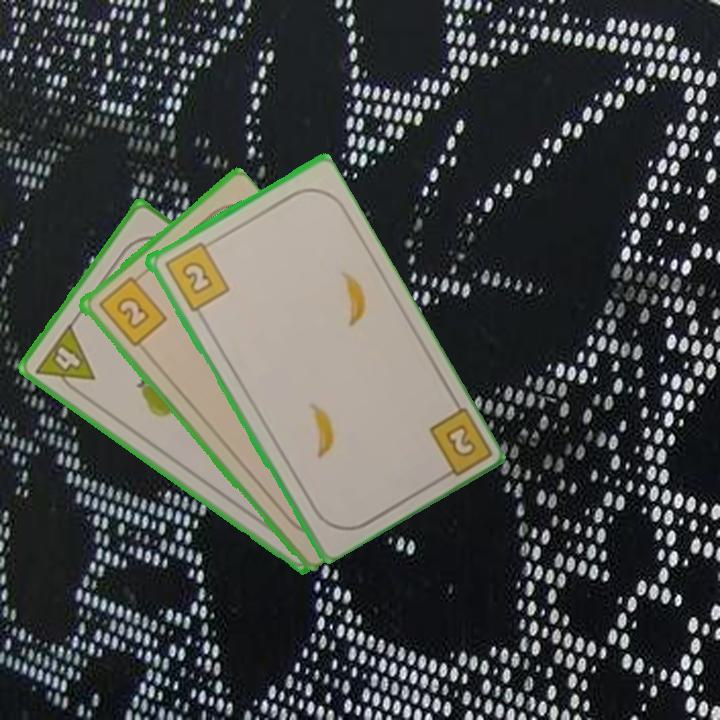2b: (94, 269, 169, 350), (424, 402, 492, 485), (160, 238, 232, 314)
4p: (31, 320, 98, 400)
